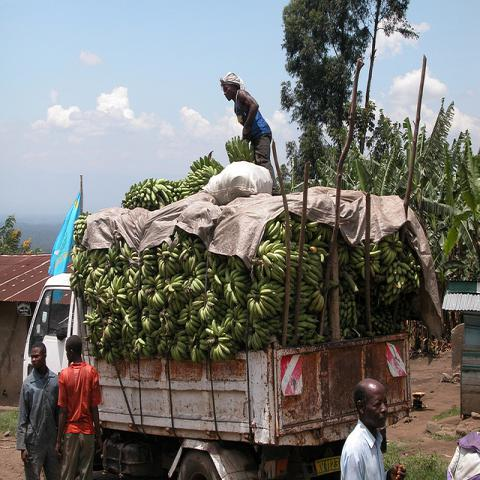truck: (22, 272, 410, 480)
